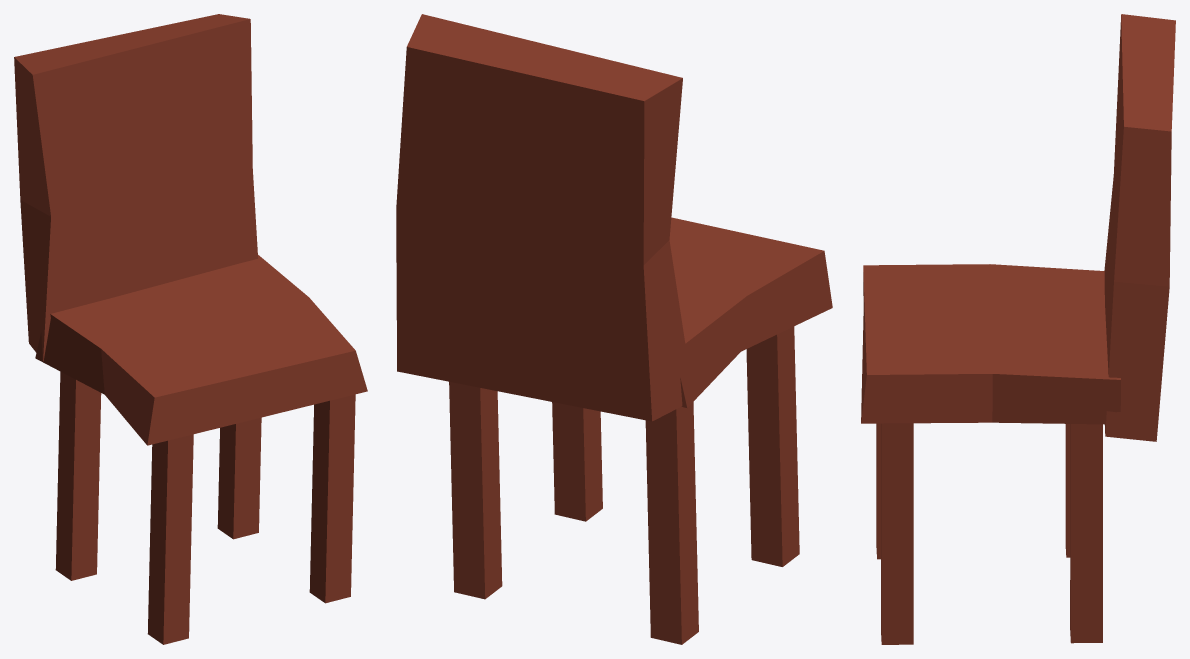
Rendered from chair_1a.fbx.
3 renders of one model, left to right at view 1: azimuth 30°, elevation 25°; view 2: azimuth 150°, elevation 25°; view 3: azimuth 270°, elevation 25°, orthographic. The views are drawn at different scales.
Parts seen in each view (by area): view 1: chair_1a; view 2: chair_1a; view 3: chair_1a.
Part boxes in pixels (box(x1,y1,x2,y2)): chair_1a: box(14, 14, 367, 644); chair_1a: box(396, 14, 832, 644); chair_1a: box(861, 14, 1175, 644).
Size of the model in its own units: 61.27 by 125 by 67.74.
